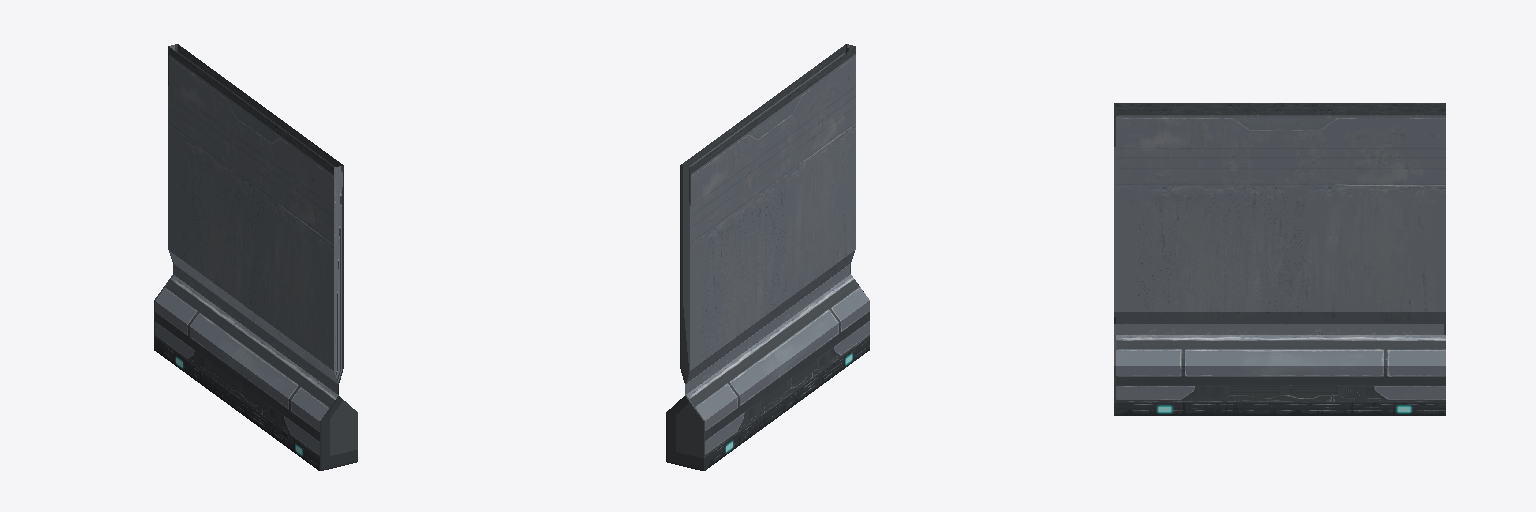
The picture shows the model from 3 angles: view 1: azimuth 30°, elevation 25°; view 2: azimuth 150°, elevation 25°; view 3: azimuth 270°, elevation 25°; orthographic projection.
Visible parts, largest first — view 1: Plane.011_Plane.000_Plane.011_Plane.004; view 2: Plane.011_Plane.000_Plane.011_Plane.004; view 3: Plane.011_Plane.000_Plane.011_Plane.004.
Boxes of the visible parts, x1=… form: Plane.011_Plane.000_Plane.011_Plane.004: x1=154, y1=44, x2=357, y2=470; Plane.011_Plane.000_Plane.011_Plane.004: x1=666, y1=44, x2=869, y2=470; Plane.011_Plane.000_Plane.011_Plane.004: x1=1114, y1=103, x2=1445, y2=415.
Bounding box in the file's own units: 0.2645 × 2 × 2.
Materials: 3 (1 with a texture image).